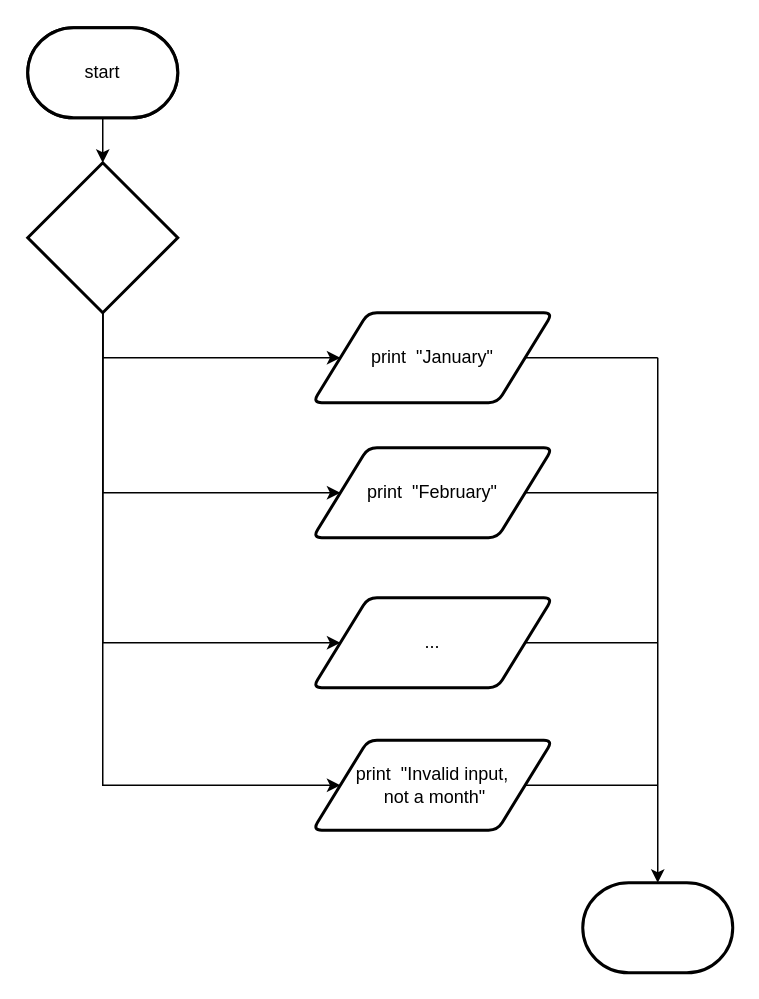
The diagram is 759 pixels wide and 999 high, and some of its shapes have lost their labels. The shapes that lost their labels are listed below. From the top down, each one's box as (x1, y1, x2, y2) in pixels, then its label:
(26, 160, 178, 314): get month number
(580, 880, 734, 974): stop
